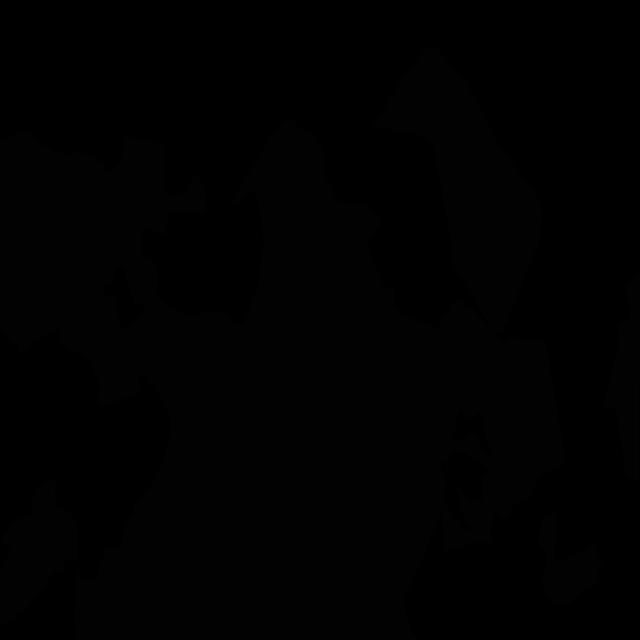cardboard: (128, 119, 481, 640), (18, 136, 207, 406), (372, 45, 543, 332), (75, 439, 311, 640), (439, 299, 564, 520), (0, 131, 106, 345), (0, 480, 78, 625), (603, 271, 640, 483), (538, 511, 603, 607), (441, 483, 496, 551)
